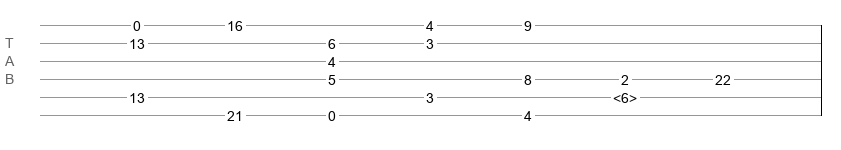0: (133, 18, 141, 28), (328, 108, 336, 118)
13: (129, 36, 145, 46), (129, 90, 145, 100)
16: (227, 18, 243, 28)
2: (621, 72, 629, 82)
21: (227, 108, 243, 118)
22: (715, 72, 731, 82)
3: (426, 36, 434, 46), (426, 90, 434, 100)
4: (328, 54, 336, 64), (426, 18, 434, 28), (524, 108, 532, 118)
5: (328, 72, 336, 82)
6: (328, 36, 336, 46)
8: (524, 72, 532, 82)
9: (524, 18, 532, 28)
harmonic: (613, 90, 637, 100)
